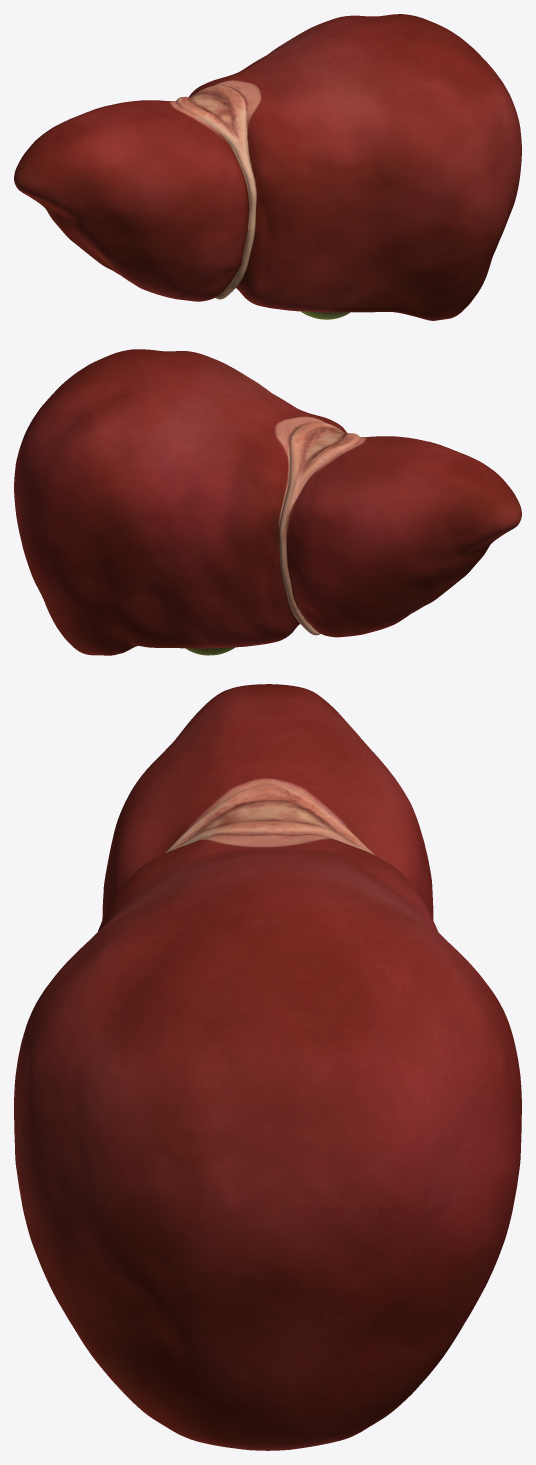
The model's file is Meshy_AI_Liver_with_Gallbladde_0518181938_texture.fbx.
3 renders of one model, top to bottom at view 1: azimuth 30°, elevation 25°; view 2: azimuth 150°, elevation 25°; view 3: azimuth 270°, elevation 25°, orthographic. The views are drawn at different scales.
Parts seen in each view (by area): view 1: Mesh_0; view 2: Mesh_0; view 3: Mesh_0.
Part boxes in pixels (x1=…): Mesh_0: x1=14, y1=14, x2=521, y2=320; Mesh_0: x1=14, y1=349, x2=521, y2=655; Mesh_0: x1=14, y1=684, x2=521, y2=1450.
Size of the model in its own units: 190 by 106 by 99.71.
Materials: 1 (1 with a texture image).
